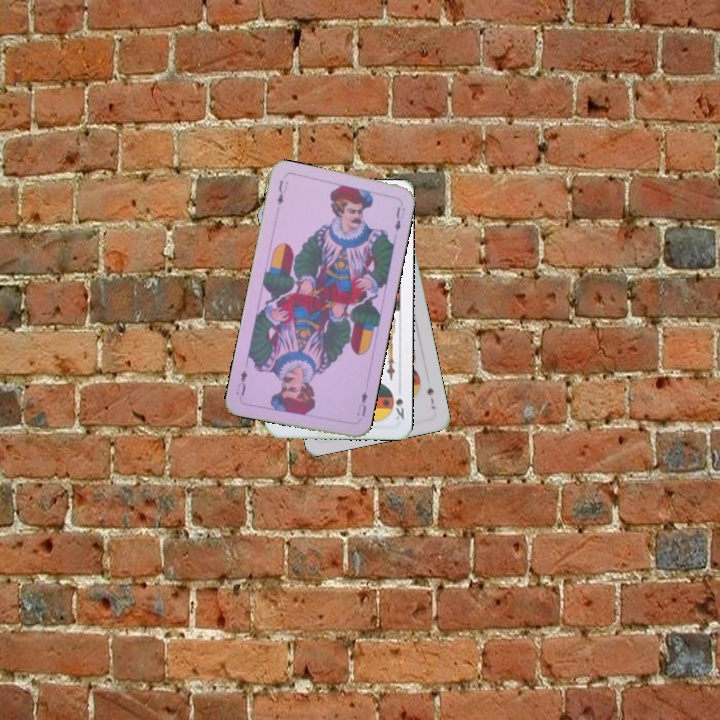EU: (273, 176, 291, 208), (353, 388, 370, 419)
S7: (423, 383, 438, 412)
SK: (391, 383, 406, 422)
